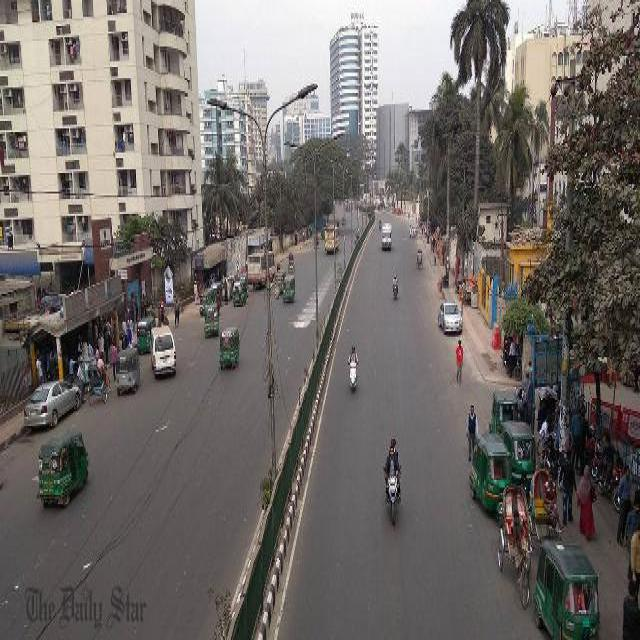bike: (596, 454, 624, 510), (583, 429, 602, 479), (538, 430, 555, 467), (346, 356, 360, 395), (514, 343, 522, 377), (391, 278, 400, 301), (378, 218, 382, 229)
vehicle: (534, 538, 599, 636), (36, 426, 90, 508), (503, 481, 531, 606), (22, 375, 83, 427), (470, 427, 503, 522), (532, 463, 561, 538), (151, 322, 178, 380), (113, 345, 141, 397), (382, 461, 404, 526), (511, 417, 537, 469), (247, 245, 275, 286), (87, 360, 112, 405), (219, 323, 241, 371), (437, 298, 464, 337), (488, 385, 520, 413), (204, 301, 220, 342), (136, 312, 150, 349), (232, 276, 249, 306), (324, 223, 340, 253), (284, 272, 297, 303), (381, 223, 393, 251), (415, 245, 425, 271), (199, 284, 213, 302), (286, 248, 296, 272), (275, 266, 283, 294), (314, 231, 321, 249), (341, 214, 347, 225)
